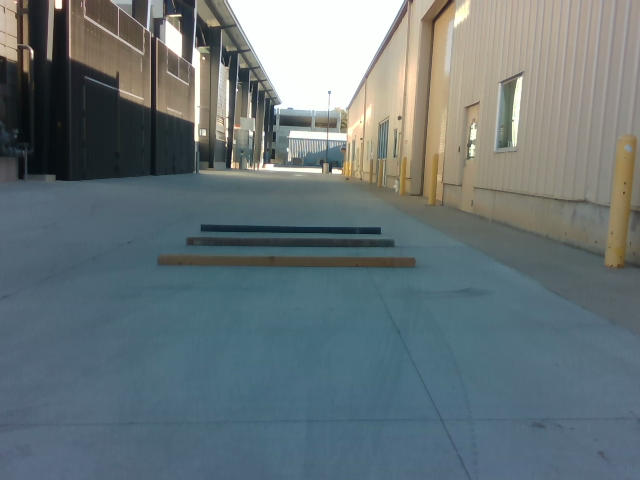Dunnage: (145, 217, 429, 285)
